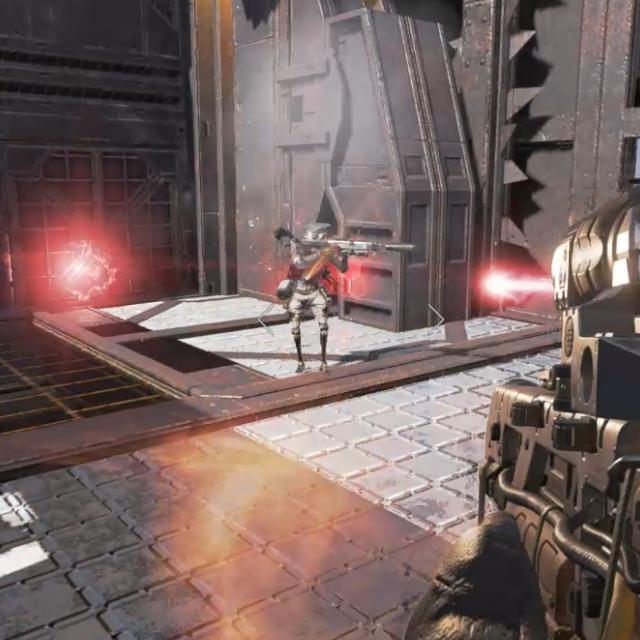avatar: (287, 222, 333, 373)
